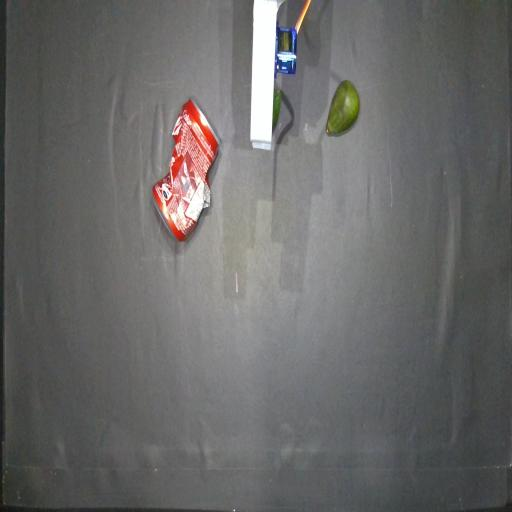higo: (326, 80, 359, 135), (272, 88, 281, 131)
lata_defectuoso: (153, 99, 218, 240)
